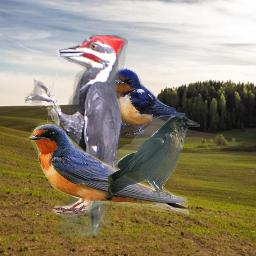Crow: (108, 115, 200, 199)
Swallow: (25, 121, 189, 220), (97, 68, 187, 137)
Woodpecker: (24, 35, 128, 238)
